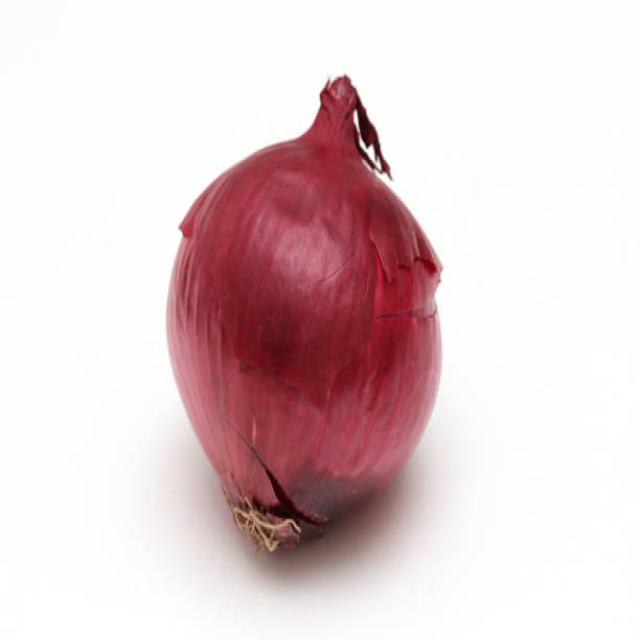onion: (165, 69, 447, 562)
